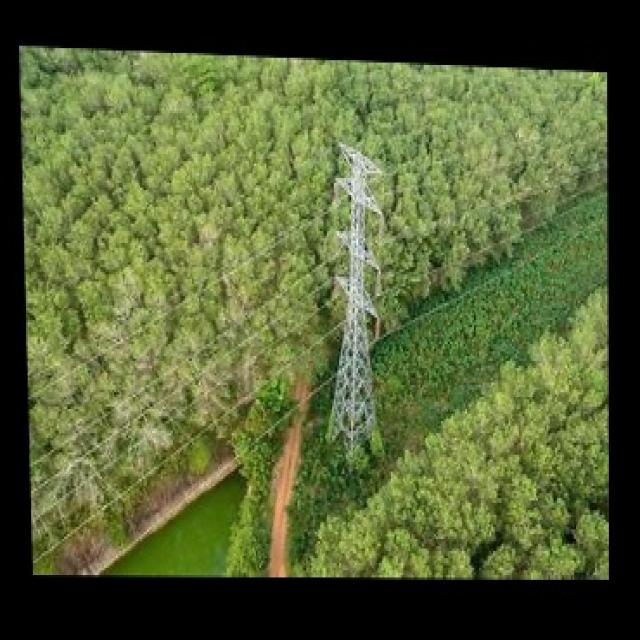utility poles: (308, 107, 416, 483)
